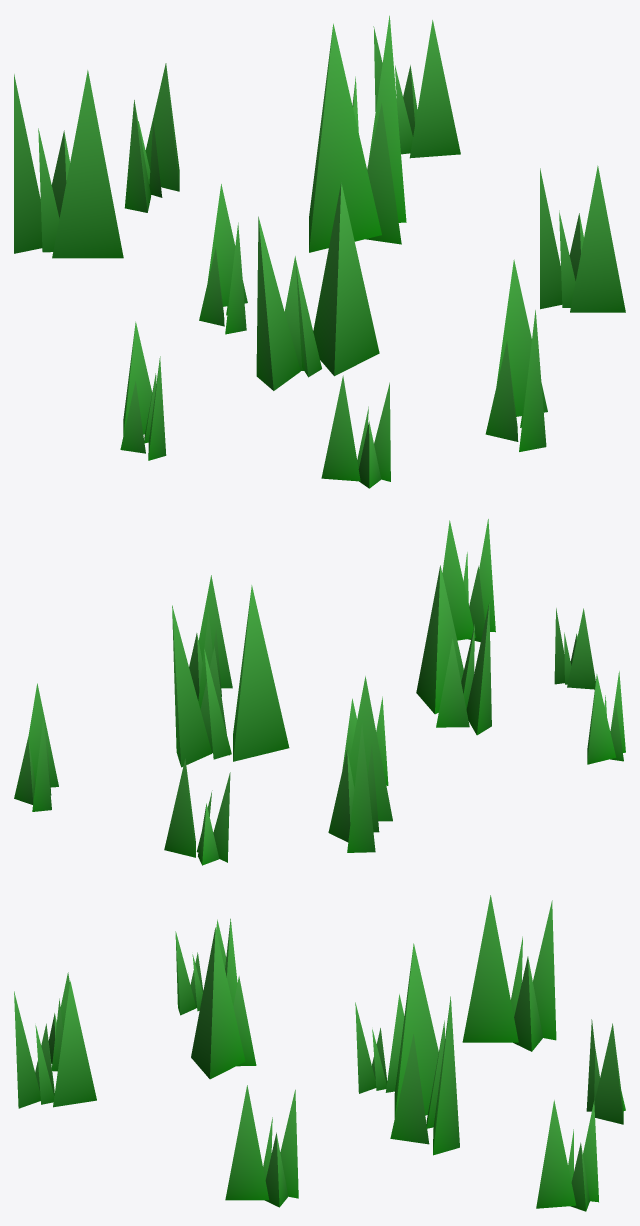
The model's file is grass.fbx.
3 renders of one model, top to bottom at view 1: azimuth 30°, elevation 25°; view 2: azimuth 150°, elevation 25°; view 3: azimuth 270°, elevation 25°, orthographic. The views are drawn at different scales.
Visible parts, largest first — view 1: grass_LOD0; view 2: grass_LOD0; view 3: grass_LOD0.
Boxes of the visible parts, bbox=[...] form: grass_LOD0: bbox=[14, 15, 625, 488]; grass_LOD0: bbox=[14, 519, 625, 865]; grass_LOD0: bbox=[14, 895, 625, 1211].
Size of what is drawn, in the model's own units: 1.92 by 0.8518 by 2.34.
